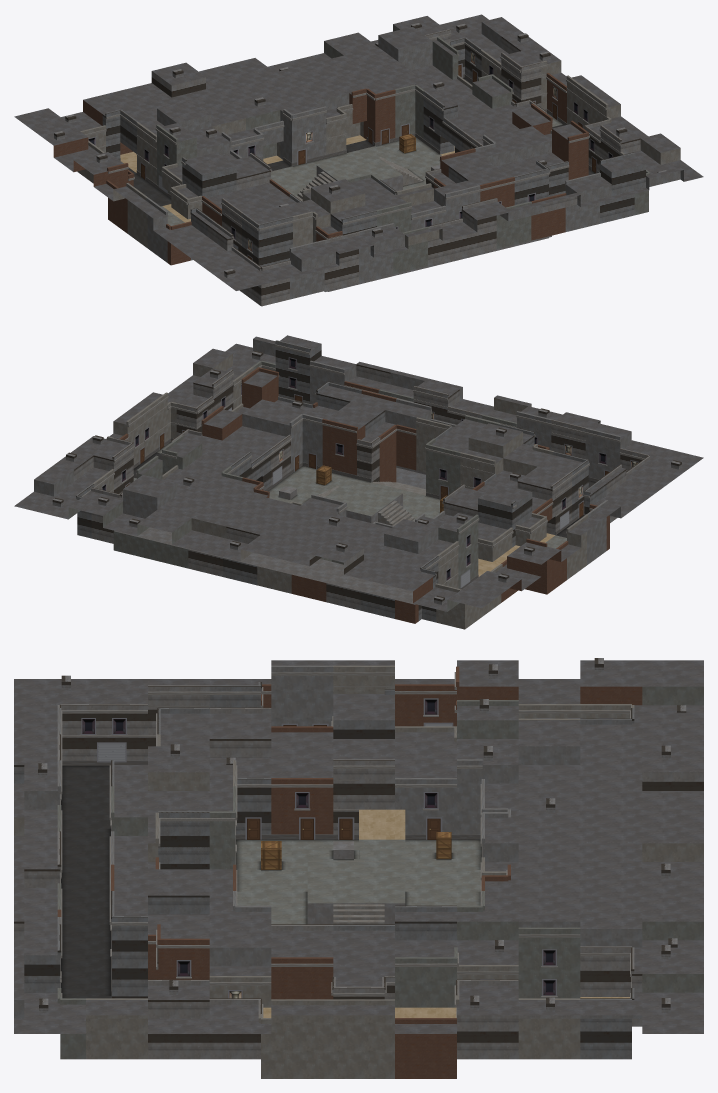
File: cell_v3.gltf
3 views of the same model, one above another, from view 1: azimuth 30°, elevation 25°; view 2: azimuth 150°, elevation 25°; view 3: azimuth 270°, elevation 25° (orthographic). The views are drawn at different scales.
Parts seen in each view (by area): view 1: Quarter, Detail, Windows, Steps; view 2: Quarter, Detail, Windows, Steps; view 3: Quarter, Detail, Windows, Shadows, Steps.
Boxes of the visible parts, bbox=[...] form: Quarter: bbox=[14, 14, 703, 306]; Detail: bbox=[54, 23, 666, 305]; Windows: bbox=[88, 51, 612, 253]; Steps: bbox=[295, 157, 422, 291]; Quarter: bbox=[14, 335, 703, 629]; Detail: bbox=[52, 340, 681, 628]; Windows: bbox=[101, 357, 638, 582]; Steps: bbox=[303, 481, 425, 525]; Quarter: bbox=[14, 660, 703, 1078]; Detail: bbox=[38, 658, 686, 1078]; Windows: bbox=[60, 698, 613, 998]; Shadows: bbox=[61, 765, 481, 997]; Steps: bbox=[333, 861, 384, 924].
Bounding box in the file's own units: 81.5 × 13.9 × 67.
Materials: 24 (23 with a texture image).
